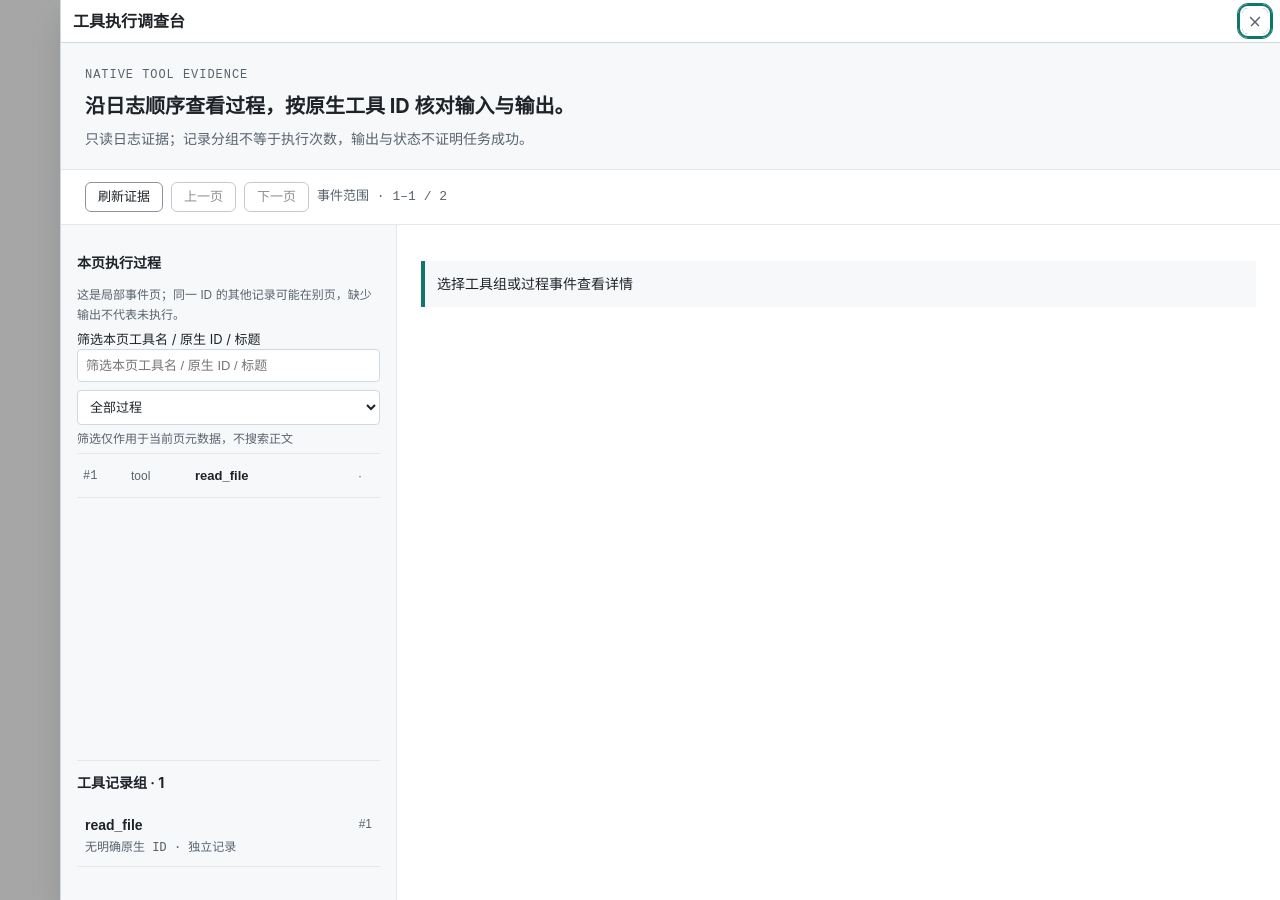
tool investigation drawer › shows unbound records, missing outputs and empty pages distinctly
The image size is (1280, 900).
What coordinates should you click on to do the following:
click the button with class "tool-group"
I would click on:
 (114, 825)
Its box is left=77, top=805, right=380, bottom=867.
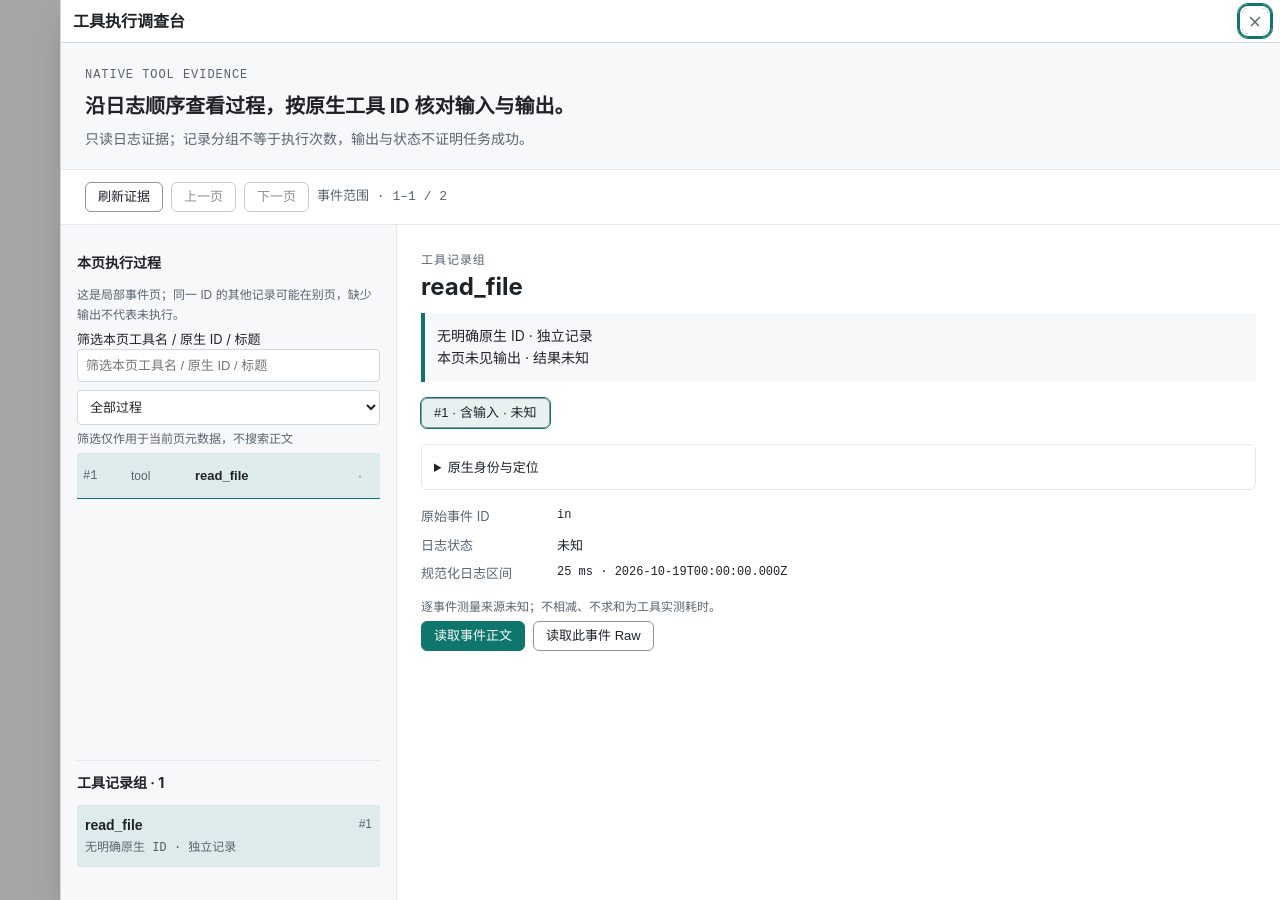
Expected: the text "无明确原生 ID" is shown, left=85, top=840, right=236, bottom=854
Result: the text "本页未见输出 · 结果未知" is shown at left=437, top=349, right=589, bottom=366
